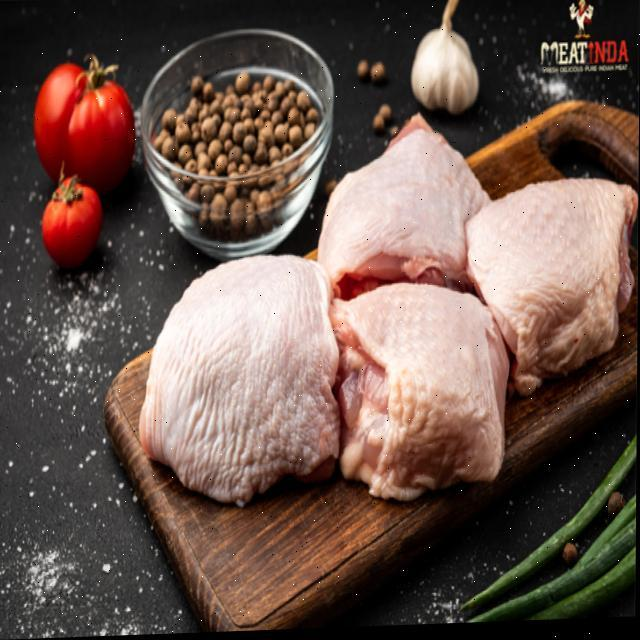thigh: (130, 242, 338, 511), (334, 282, 500, 502), (458, 172, 623, 393), (332, 125, 478, 272)
